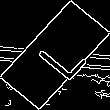L_NW: (24, 27, 86, 83)
